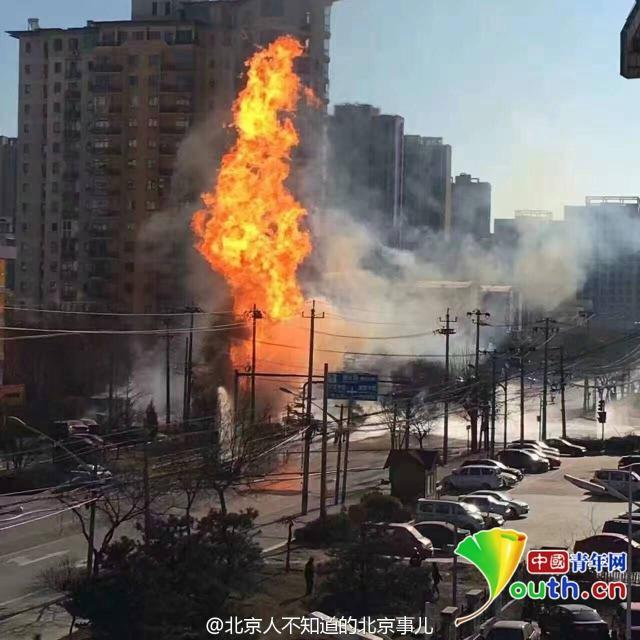Fire: (192, 34, 316, 368)
Smoke: (307, 51, 640, 376), (128, 128, 199, 414)
